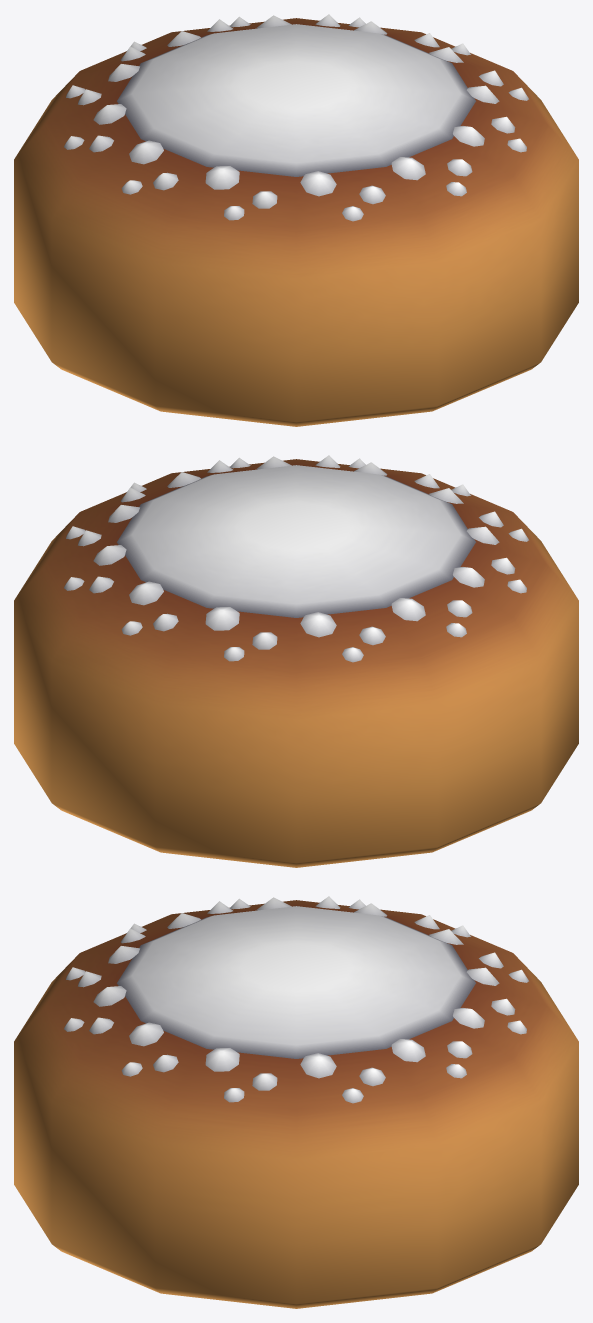
File: m_JapaneseCheesecake01.fbx
3 renders of one model, top to bottom at view 1: azimuth 30°, elevation 25°; view 2: azimuth 150°, elevation 25°; view 3: azimuth 270°, elevation 25°, orthographic.
Parts seen in each view (by area): view 1: m_JapaneseCheesecake01; view 2: m_JapaneseCheesecake01; view 3: m_JapaneseCheesecake01.
Part boxes in pixels (box(x1,y1,x2,y2)): m_JapaneseCheesecake01: box(14, 14, 578, 426); m_JapaneseCheesecake01: box(14, 455, 578, 867); m_JapaneseCheesecake01: box(14, 896, 578, 1308).
Bounding box in the file's own units: 28 × 12.63 × 28.
